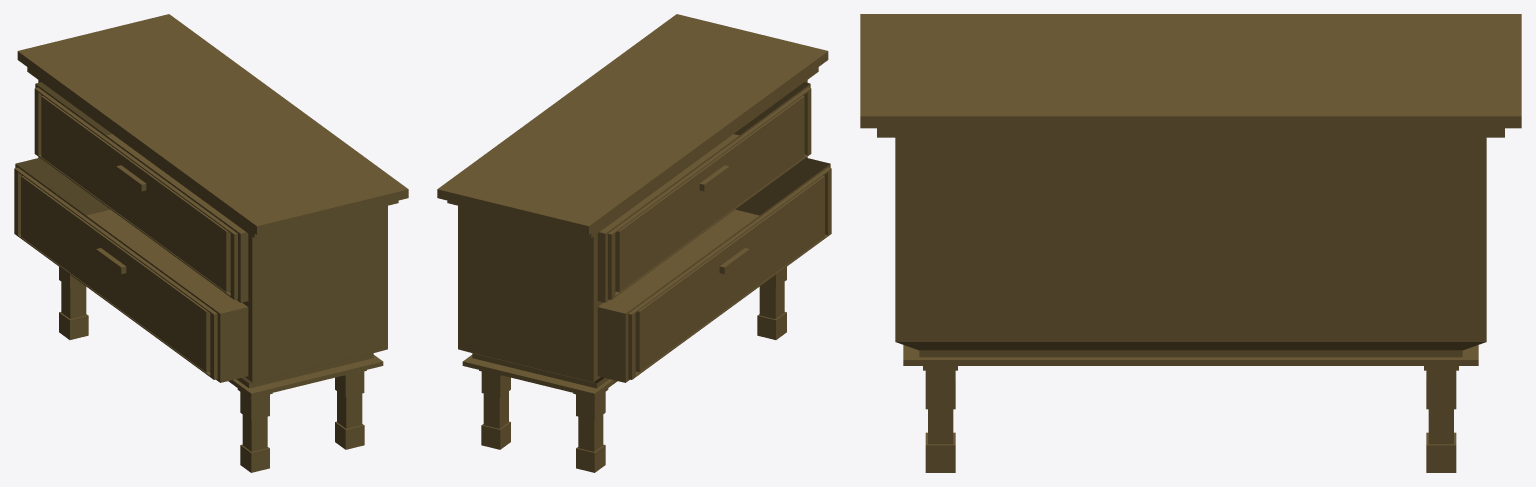
The model's file is dulap deschis.fbx.
3 renders of one model, left to right at view 1: azimuth 30°, elevation 25°; view 2: azimuth 150°, elevation 25°; view 3: azimuth 270°, elevation 25°, orthographic. The views are drawn at different scales.
Parts seen in each view (by area): view 1: Cube.079; view 2: Cube.079; view 3: Cube.079.
Boxes of the visible parts, left/top/right/bottom form: Cube.079: left=14, top=14, right=408, bottom=472; Cube.079: left=437, top=14, right=831, bottom=472; Cube.079: left=860, top=14, right=1521, bottom=472.
Bounding box in the file's own units: 81.66 × 116 × 188.
